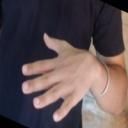hand: (19, 32, 97, 123)
